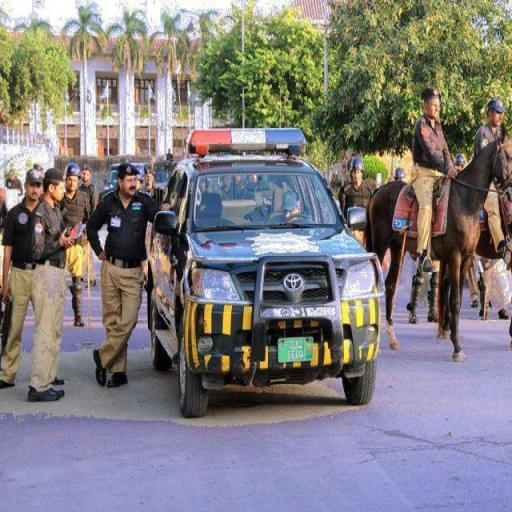Ambulance: (142, 123, 384, 414)
